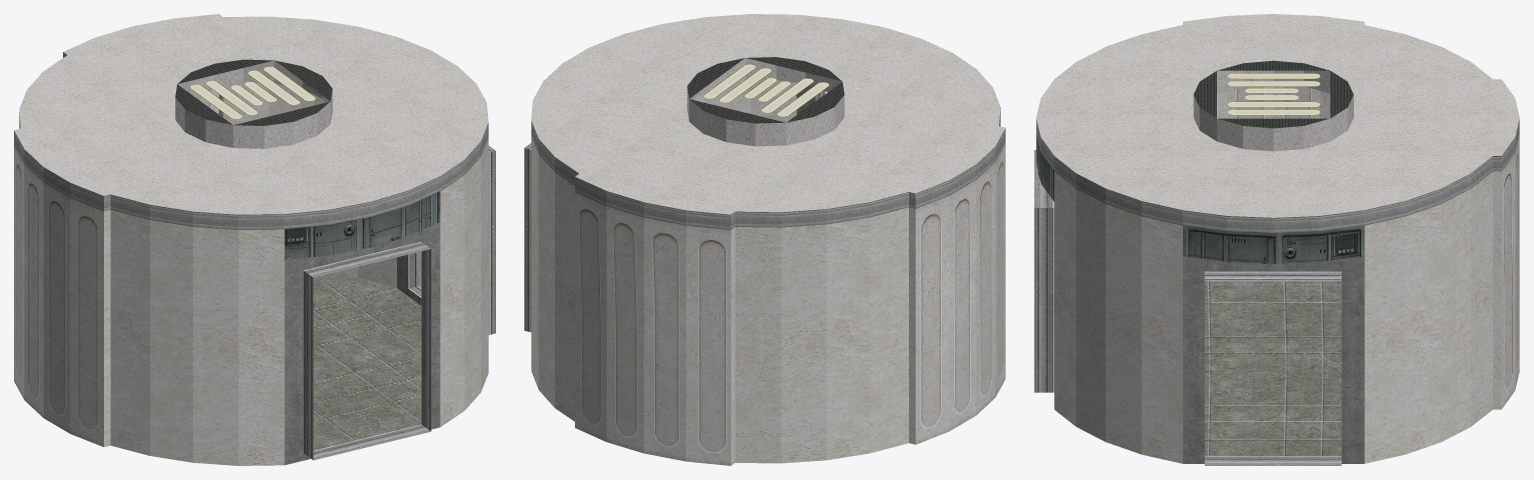
The model's file is ply_corl_house_lg_s02_fp1_r8_room2_mesh_r8.fbx.
3 views of the same model, side by side, from view 1: azimuth 30°, elevation 25°; view 2: azimuth 150°, elevation 25°; view 3: azimuth 270°, elevation 25° (orthographic).
Parts seen in each view (by area): view 1: mesh_node; view 2: mesh_node; view 3: mesh_node.
Boxes of the visible parts, box(x1,y1,x2,y2) form: mesh_node: box(14, 14, 495, 465); mesh_node: box(524, 14, 1005, 465); mesh_node: box(1034, 14, 1519, 465).
Bounding box in the file's own units: 7.19 × 4.5 × 7.16.
